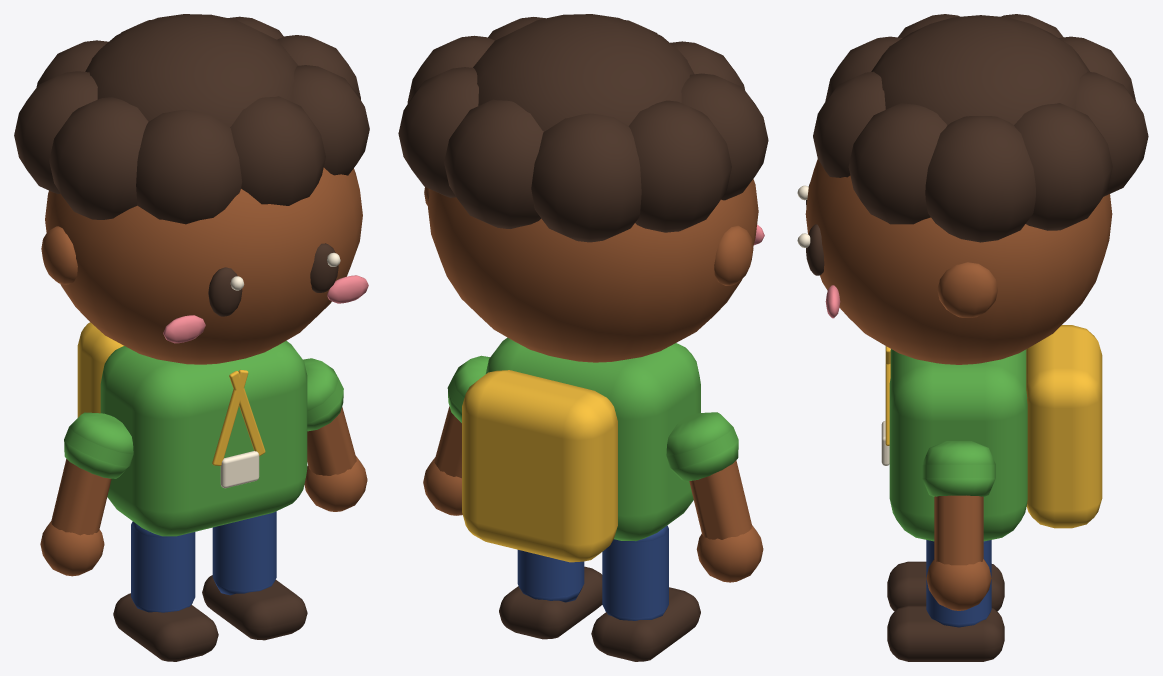
File: international_student.glb
The picture shows the model from 3 angles, left to right: view 1: azimuth 30°, elevation 25°; view 2: azimuth 150°, elevation 25°; view 3: azimuth 270°, elevation 25°; orthographic projection. The views are drawn at different scales.
Parts seen in each view (by area): view 1: Head.007, Torso.006, CurlTop, Curl6, Curl5, Curl7, Curl8, Leg-1.004, Curl4, Leg1.004, Shoe-1.006, Shoe1.007 (+17 smaller); view 2: Head.007, Backpack, CurlTop, Torso.006, Curl3, Curl4, Curl2, Curl1, Curl5, Leg-1.004, Shoe-1.006, Sleeve-1.006 (+10 smaller); view 3: Head.007, Torso.006, CurlTop, Backpack, Curl0, Curl1, Curl8, Shoe1.007, Curl2, Curl7, Sleeve1.006, Arm1.006 (+7 smaller).
Part boxes in pixels (bbox=[...]): Head.007: bbox=[45, 167, 362, 364]; Torso.006: bbox=[100, 340, 307, 536]; CurlTop: bbox=[85, 14, 298, 126]; Curl6: bbox=[136, 109, 242, 224]; Curl5: bbox=[49, 97, 148, 219]; Curl7: bbox=[230, 96, 325, 205]; Curl8: bbox=[292, 65, 369, 175]; Leg-1.004: bbox=[131, 521, 195, 612]; Curl4: bbox=[14, 71, 97, 193]; Leg1.004: bbox=[212, 511, 276, 595]; Shoe-1.006: bbox=[113, 593, 218, 661]; Shoe1.007: bbox=[202, 575, 307, 640]; Head.007: bbox=[428, 179, 758, 362]; Backpack: bbox=[462, 370, 617, 562]; CurlTop: bbox=[473, 14, 694, 131]; Torso.006: bbox=[485, 337, 700, 541]; Curl3: bbox=[531, 113, 641, 242]; Curl4: bbox=[628, 100, 731, 232]; Curl2: bbox=[444, 99, 543, 228]; Curl1: bbox=[398, 67, 478, 197]; Curl5: bbox=[681, 73, 768, 200]; Leg-1.004: bbox=[602, 525, 668, 620]; Shoe-1.006: bbox=[591, 587, 700, 661]; Sleeve-1.006: bbox=[666, 412, 738, 481]; Head.007: bbox=[805, 159, 1112, 364]; Torso.006: bbox=[889, 349, 1027, 541]; CurlTop: bbox=[871, 15, 1089, 124]; Backpack: bbox=[1026, 325, 1102, 528]; Curl0: bbox=[925, 116, 1035, 242]; Curl1: bbox=[1014, 103, 1112, 230]; Curl8: bbox=[848, 103, 947, 224]; Shoe1.007: bbox=[887, 605, 1004, 661]; Curl2: bbox=[1075, 71, 1148, 196]; Curl7: bbox=[813, 71, 885, 177]; Sleeve1.006: bbox=[922, 441, 995, 496]; Arm1.006: bbox=[934, 495, 983, 565].
Bounding box in the file's own units: 0.86 × 1.53 × 0.8084.
